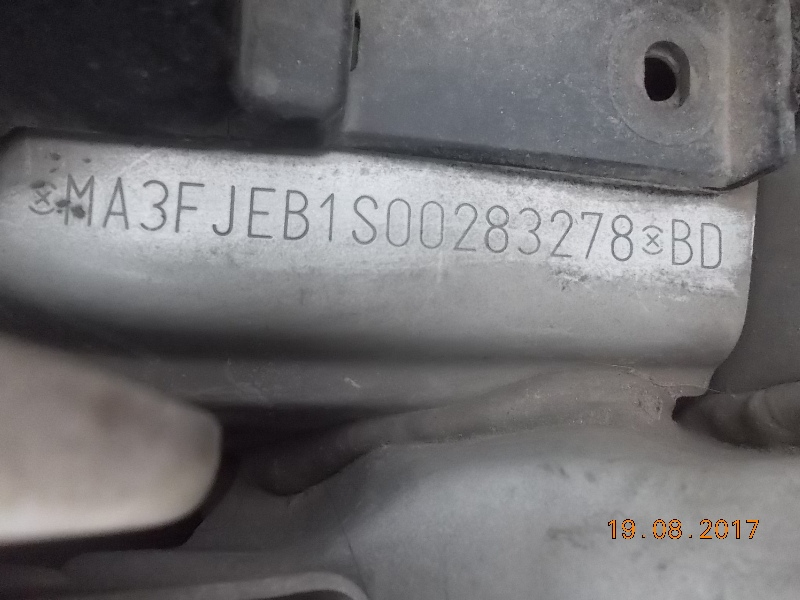Scratch_or_spot: (330, 416, 377, 447)
